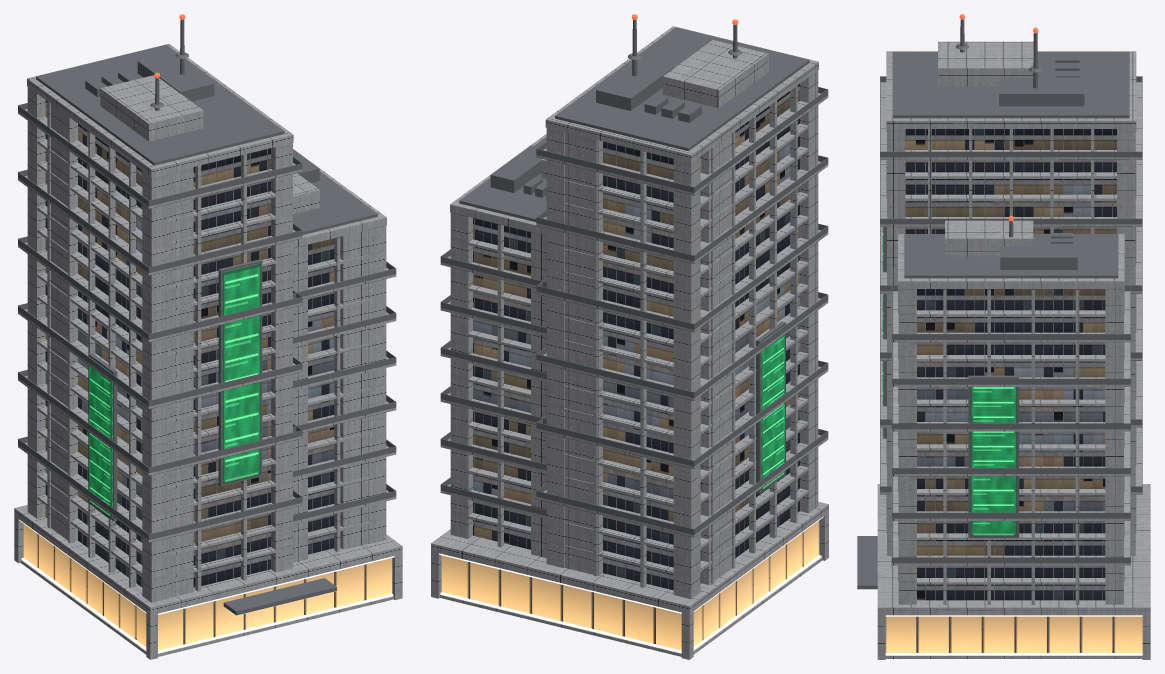
The model's file is towerA.glb.
3 views of the same model, side by side, from view 1: azimuth 30°, elevation 25°; view 2: azimuth 150°, elevation 25°; view 3: azimuth 270°, elevation 25° (orthographic). The views are drawn at different scales.
Visible parts, largest first — view 1: towerA; view 2: towerA; view 3: towerA.
Boxes of the visible parts, x1,y1,x2,y2 form: towerA: (14, 14, 402, 659); towerA: (431, 14, 828, 659); towerA: (857, 14, 1150, 659).
Size of the model in its own units: 47.67 by 101 by 47.67.
7 materials, 2 textured.
